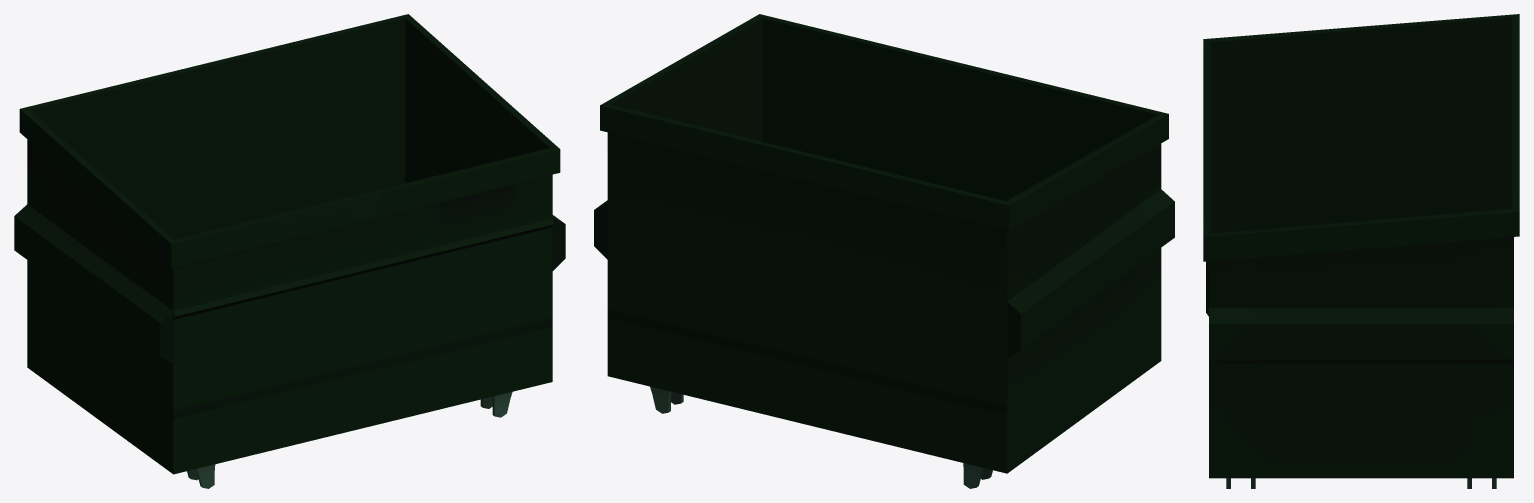
Rendered from Dumpster_Open.fbx.
The picture shows the model from 3 angles, left to right: view 1: azimuth 30°, elevation 25°; view 2: azimuth 150°, elevation 25°; view 3: azimuth 270°, elevation 25°; orthographic projection. The views are drawn at different scales.
Parts seen in each view (by area): view 1: Dumpster_Open; view 2: Dumpster_Open; view 3: Dumpster_Open.
Part boxes in pixels (x1,y1,x2,y2): Dumpster_Open: [14, 14, 565, 488]; Dumpster_Open: [594, 14, 1174, 488]; Dumpster_Open: [1203, 14, 1519, 488].
Size of the model in its own units: 228 by 155 by 148.
